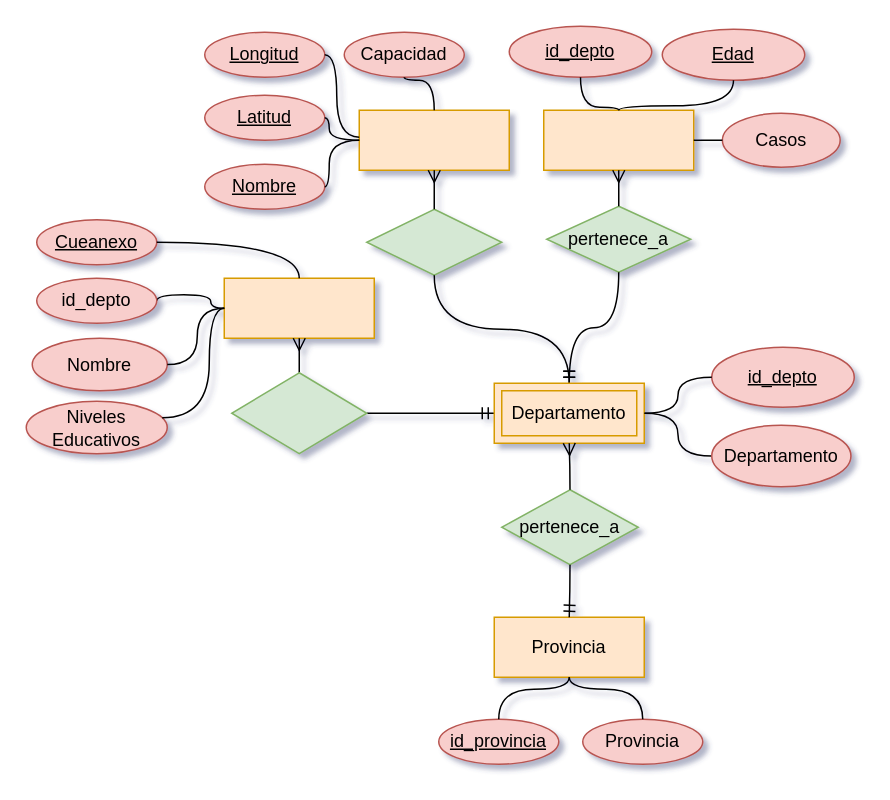
Image size: 890x800. Some labels were removed from this diagram. Here are the shapes that lost their labels. From the top down, the centre of each, then its label:
the point at 433,139: Centro Cultural
the point at 618,139: Padrón Población
the point at 433,241: ubicada_en
the point at 298,307: Establecimiento Educativo
the point at 298,412: se_localiza_en
